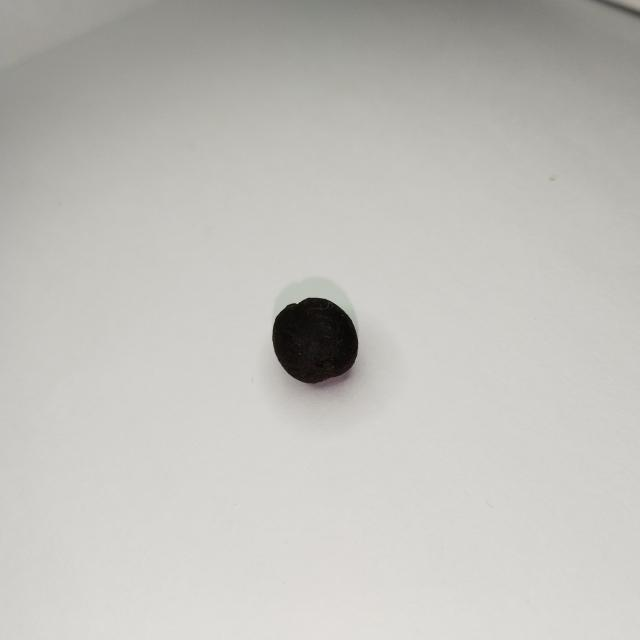Danado: (274, 298, 358, 384)
